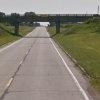Bridge: (11, 6, 81, 32)
